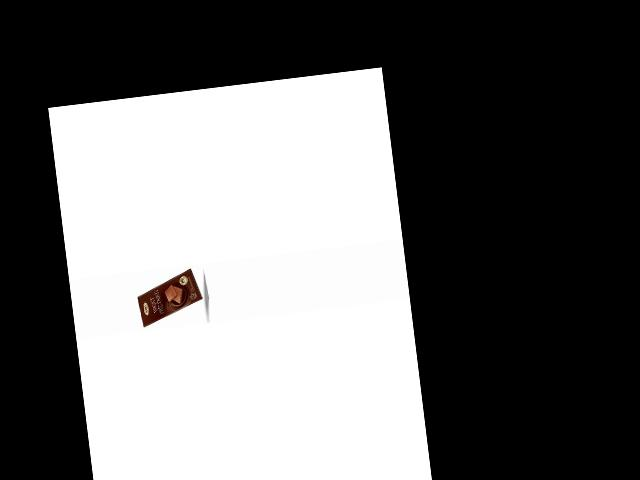chocolate: (133, 265, 208, 328)
